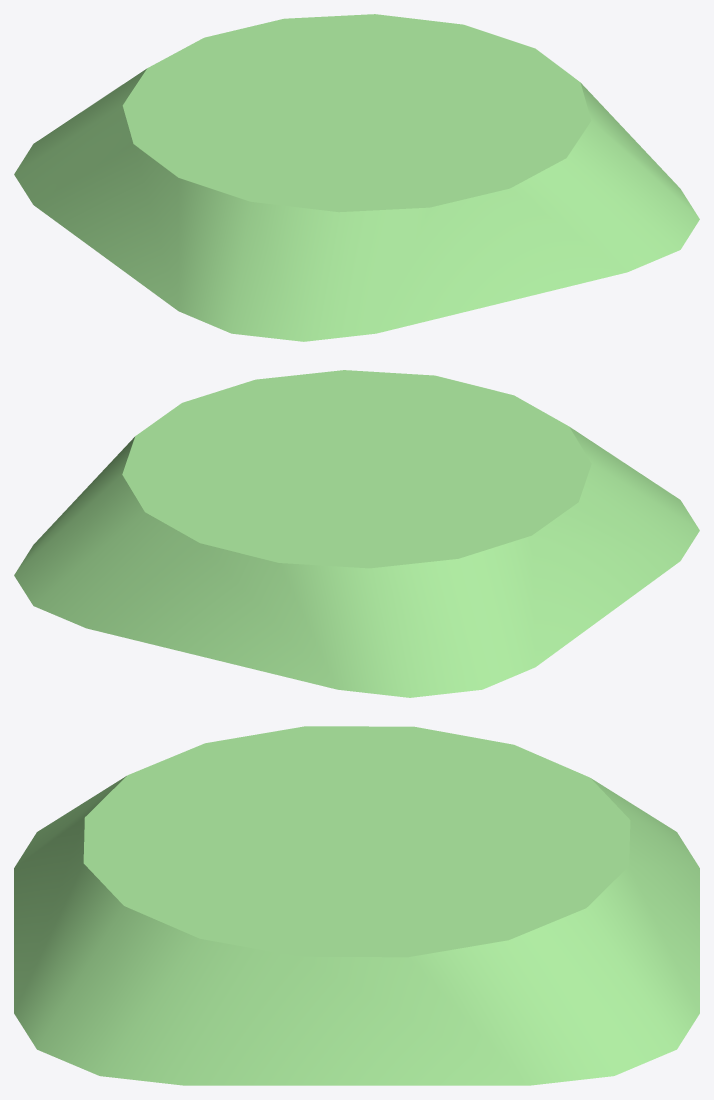
Rendered from 棒球場 - 壘包.fbx.
3 views of the same model, one above another, from view 1: azimuth 30°, elevation 25°; view 2: azimuth 150°, elevation 25°; view 3: azimuth 270°, elevation 25° (orthographic). The views are drawn at different scales.
Visible parts, largest first — view 1: 壘包; view 2: 壘包; view 3: 壘包.
Boxes of the visible parts, x1=… form: 壘包: x1=14, y1=14, x2=699, y2=341; 壘包: x1=14, y1=370, x2=699, y2=697; 壘包: x1=14, y1=726, x2=699, y2=1085.
Size of the model in its own units: 4889 by 779 by 4889.
